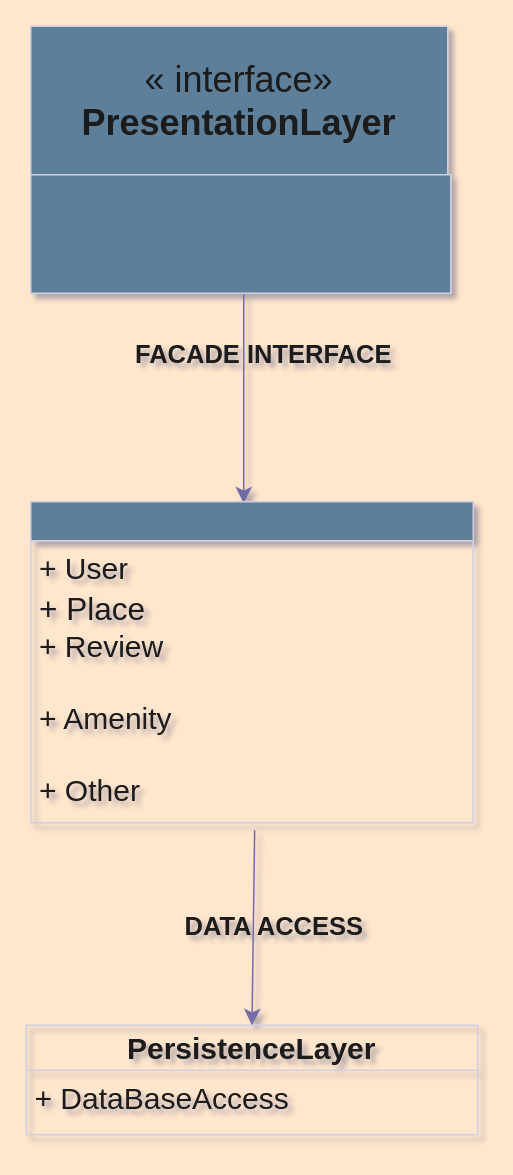
Some shapes in this 513 by 1175 pixel diagram are drawn without their labels. The box of each missing label's shape, as (x1, y1, x2, y2) in pixels:
+ServiceAPI: (29, 173, 451, 293)
BusinessLogicLayer: (29, 500, 473, 823)
